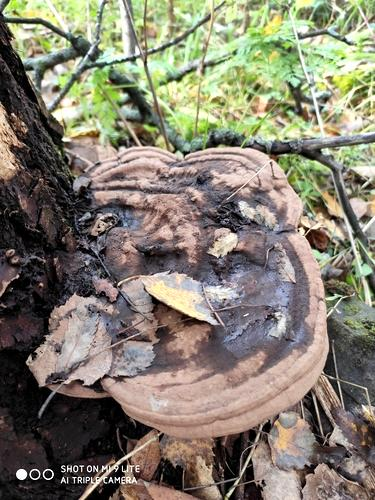Ganoderma - Fruit Body: (58, 141, 334, 443)
